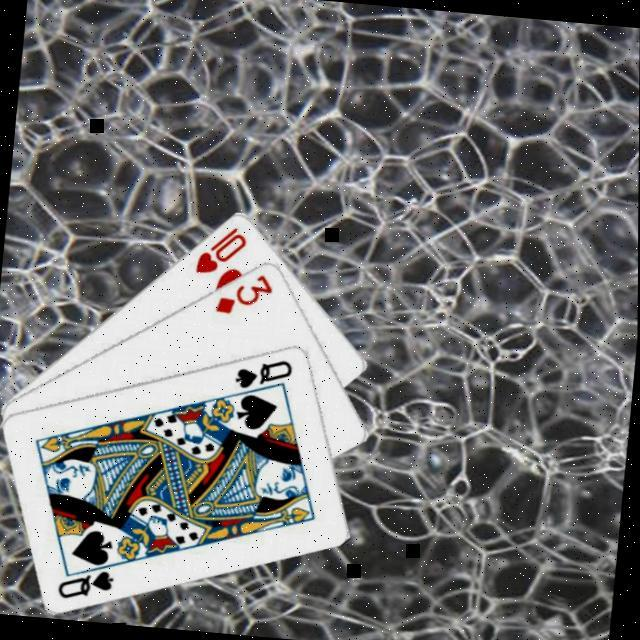10H: (194, 218, 253, 278)
3D: (213, 264, 280, 318)
QS: (234, 350, 298, 392), (57, 560, 120, 602)
